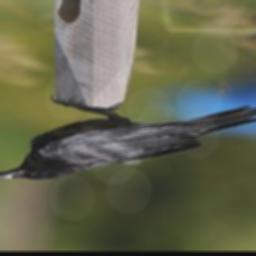Crow: (0, 95, 256, 181)
